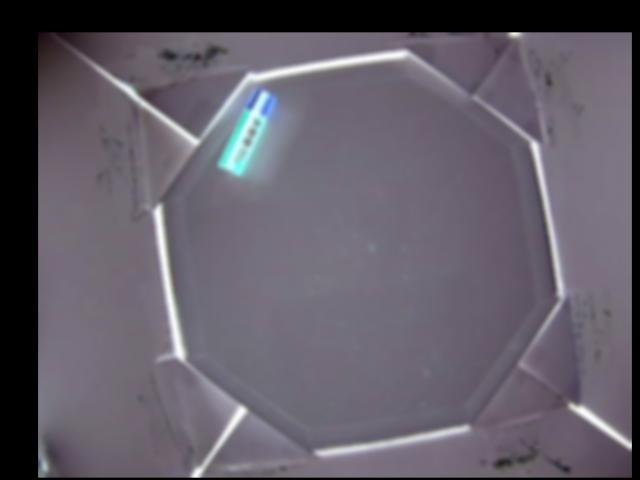Battery: (218, 88, 278, 178)
